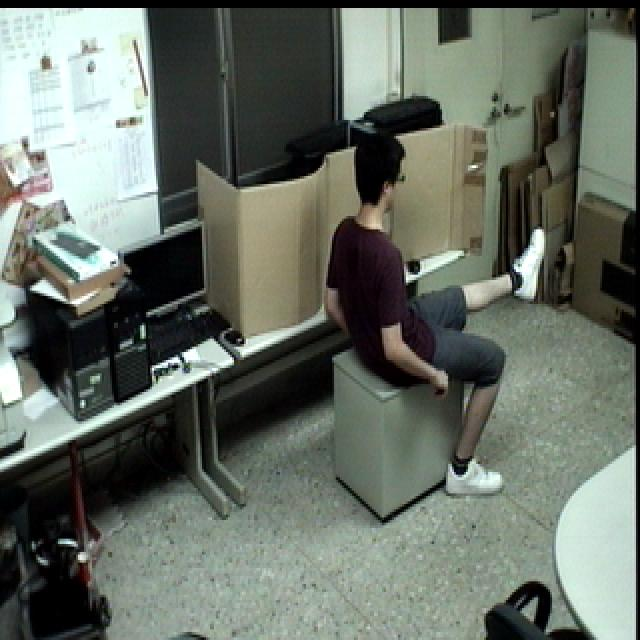sit: (318, 128, 554, 504)
